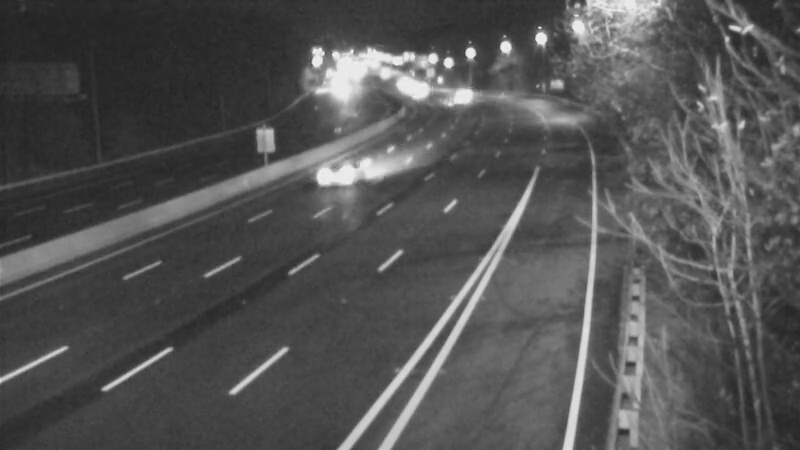vehicle: (300, 137, 380, 217), (441, 72, 491, 122)
